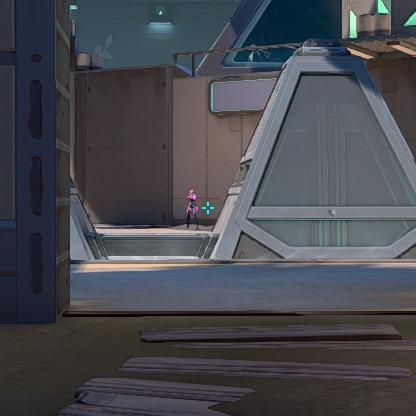enemyBody: (191, 196, 193, 203)
enemyHead: (190, 190, 193, 194)
